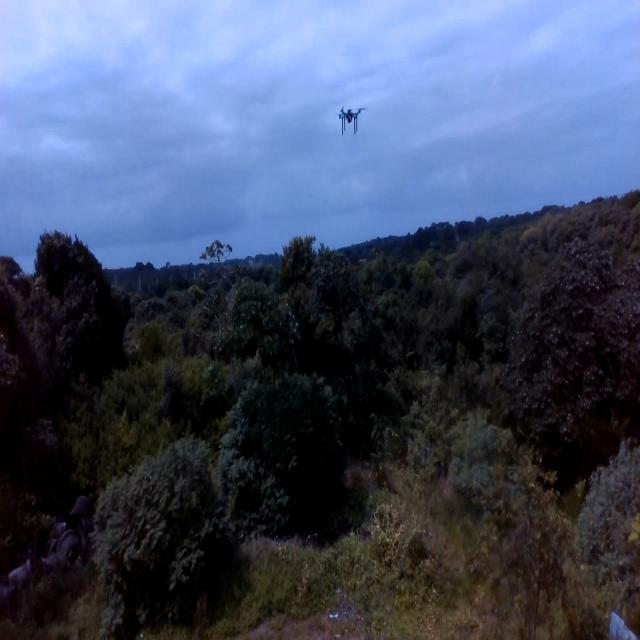-uav-: (332, 96, 369, 139)
